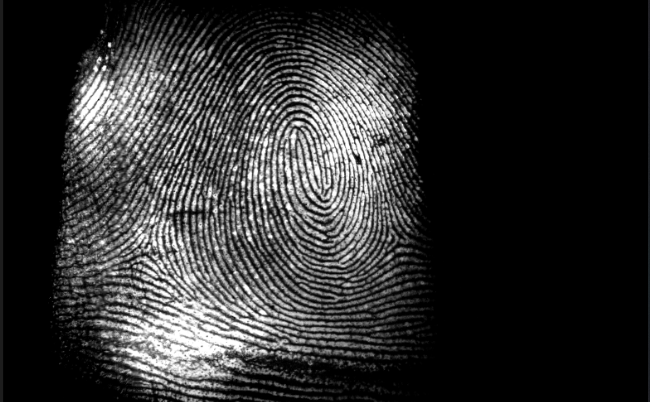deltas: (122, 222, 174, 280), (375, 217, 416, 261)
nucleo: (283, 119, 328, 187)
